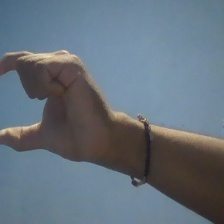G: (1, 43, 109, 171)
